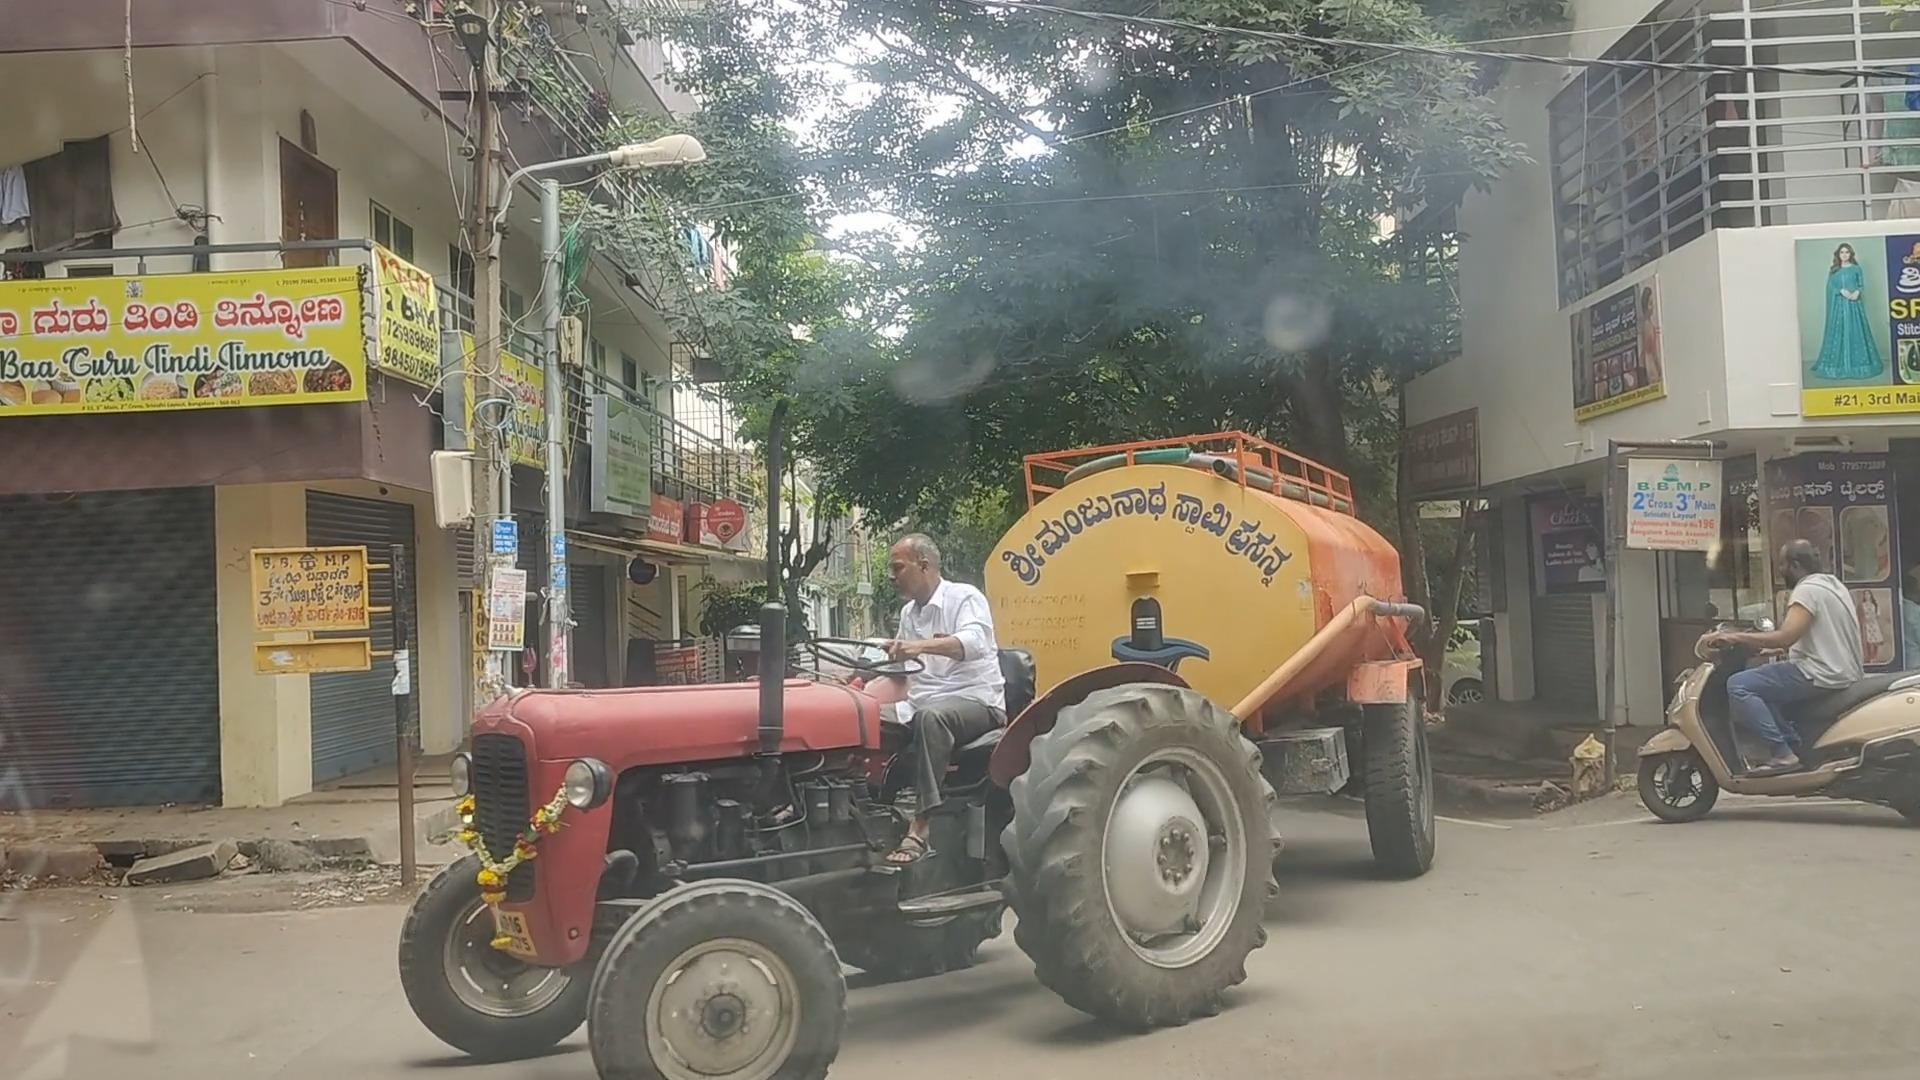HMV: (328, 309, 1507, 1080)
LMV: (1598, 501, 1920, 844)
